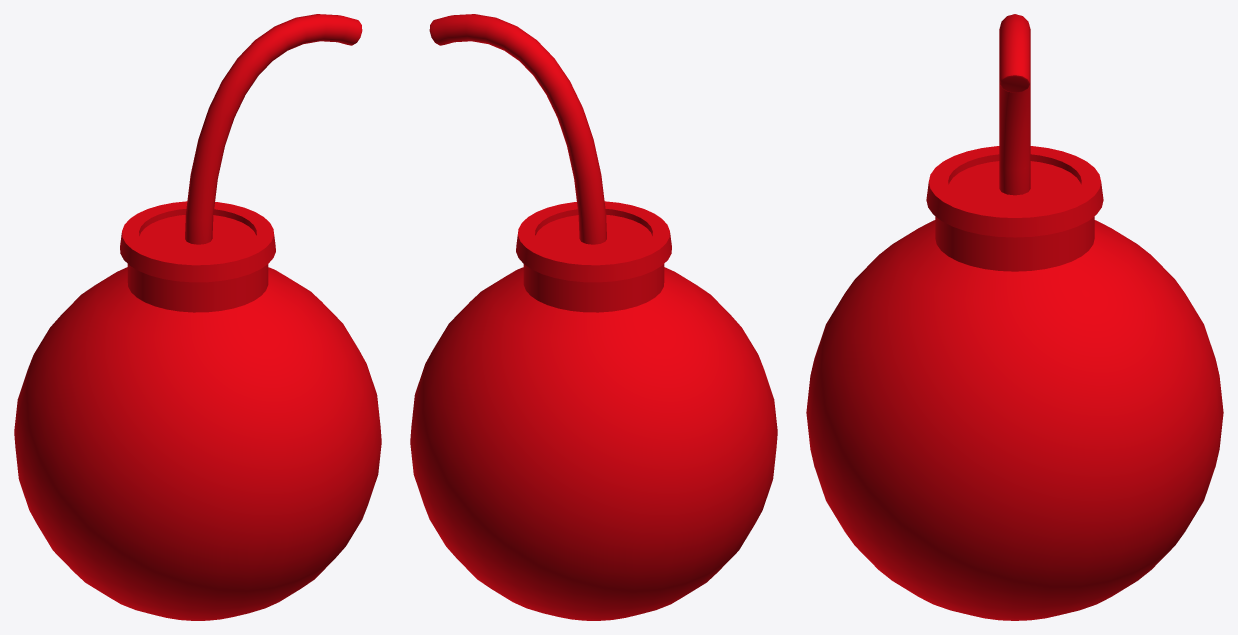
Rendered from Bomb_low.fbx.
3 renders of one model, left to right at view 1: azimuth 30°, elevation 25°; view 2: azimuth 150°, elevation 25°; view 3: azimuth 270°, elevation 25°, orthographic. The views are drawn at different scales.
Parts seen in each view (by area): view 1: bomb_low, Rope_low; view 2: bomb_low, Rope_low; view 3: bomb_low, Rope_low.
Boxes of the visible parts, x1,y1,x2,y2 form: bomb_low: (14,201,381,620); Rope_low: (185,14,362,244); bomb_low: (410,201,777,620); Rope_low: (429,14,606,244); bomb_low: (806,146,1223,620); Rope_low: (999,14,1030,195).
Size of the model in its own units: 2.01 by 3.36 by 2.
